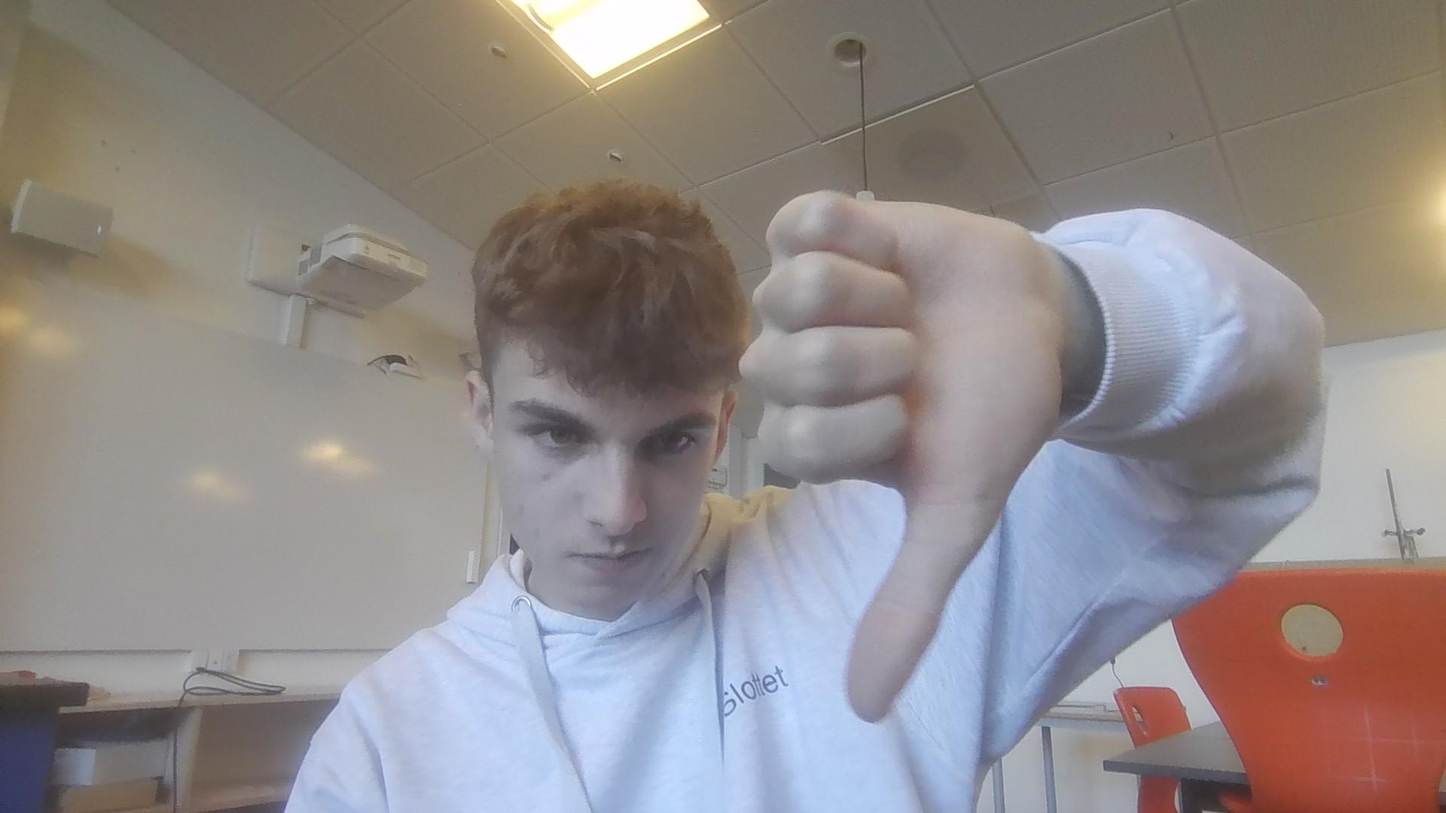thumbs down: (738, 189, 1077, 723)
